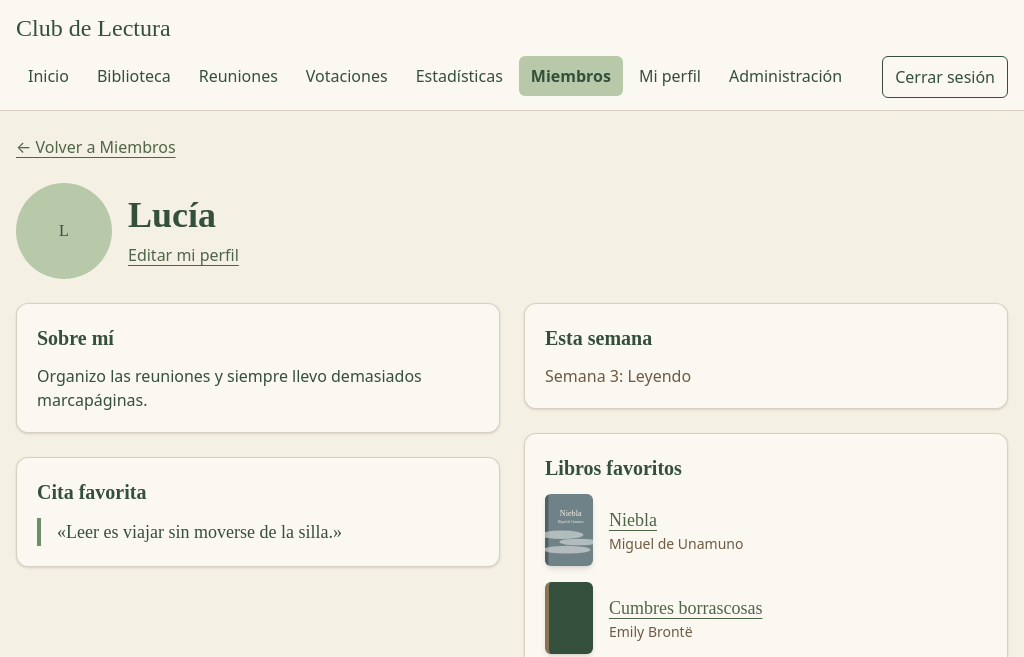
Test: Member profile › links the viewer’s own profile to «Editar mi perfil», with no Estadísticas link
The image size is (1024, 657).
Expected: the link "← Volver a Miembros" is shown, x1=16 y1=136 x2=176 y2=158
Expected: the heading "Lucía" is shown, x1=128 y1=195 x2=216 y2=235
Click the link "Editar mi perfil" at (183, 255), box x1=128 y1=244 x2=239 y2=266
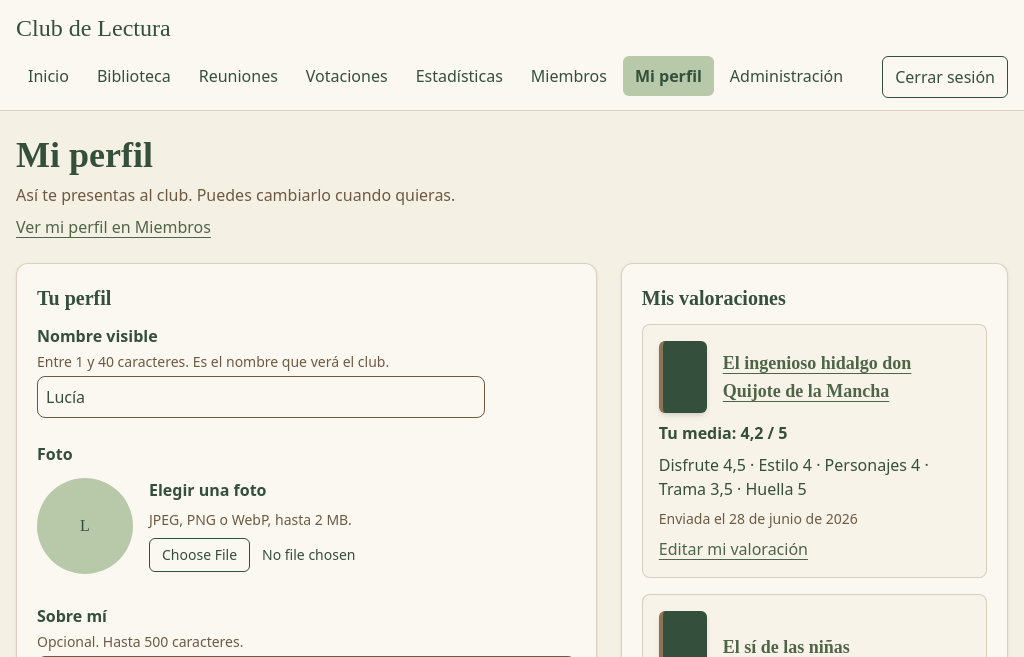
Result: the heading "Mi perfil" is shown at x1=16 y1=135 x2=153 y2=175
